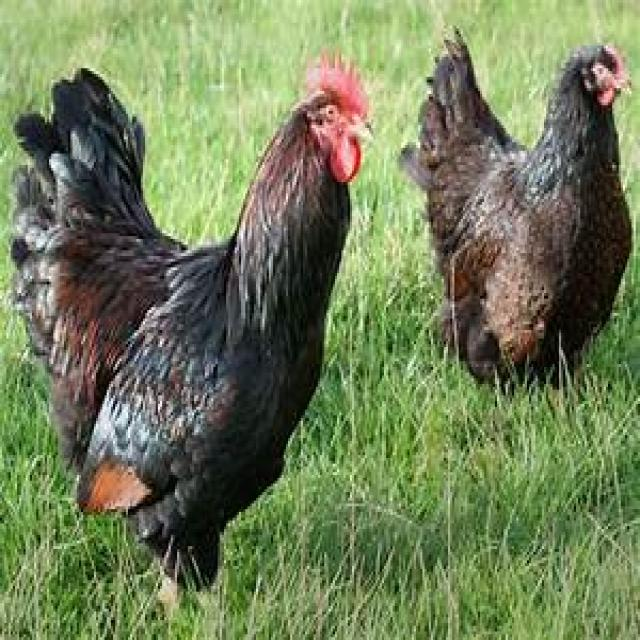hen: (11, 48, 375, 609), (401, 31, 636, 384)
